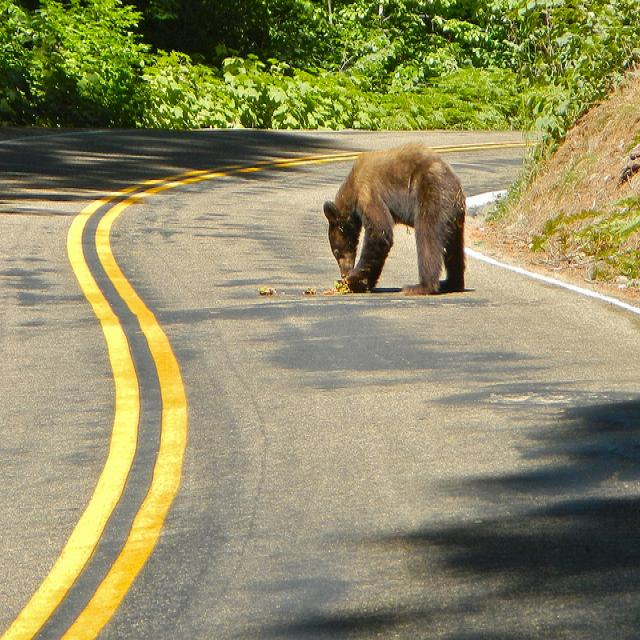Bear: (324, 142, 472, 301)
